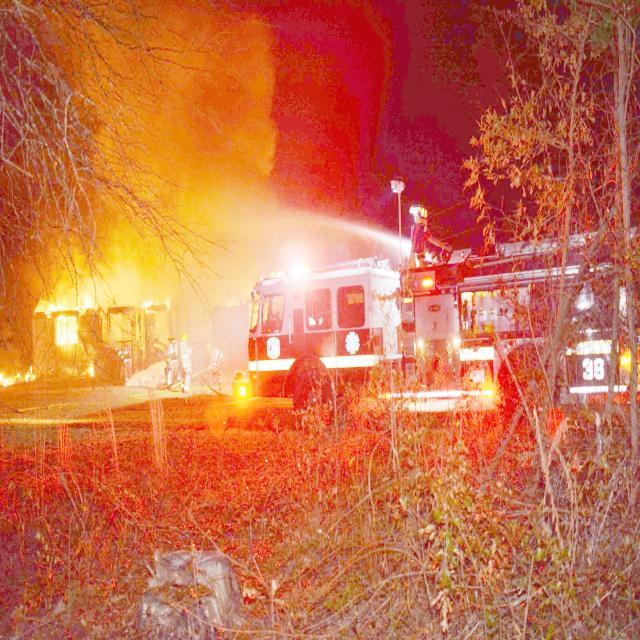api: (44, 285, 103, 351), (1, 353, 40, 398)
asap: (1, 1, 310, 333)
